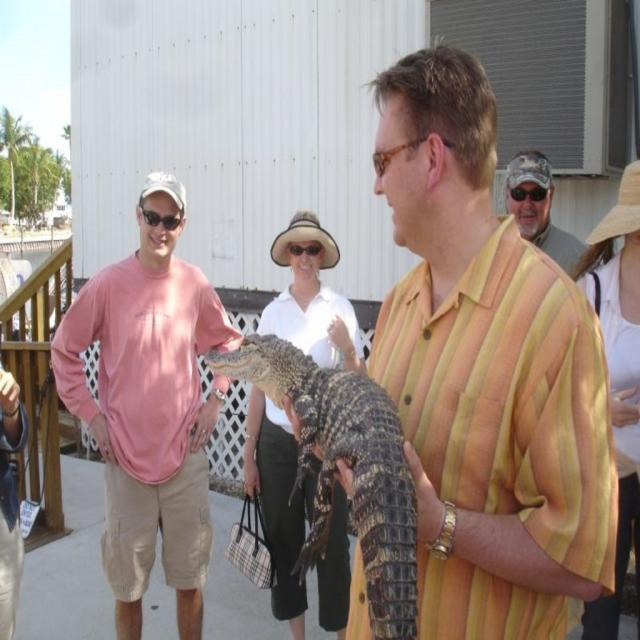crocodile: (210, 333, 415, 625)
